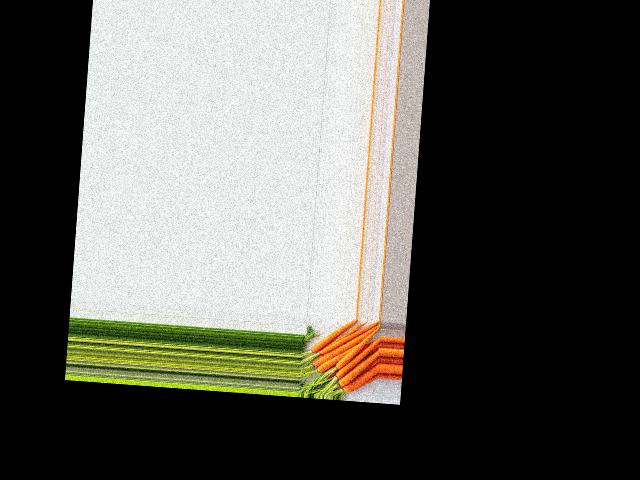carrot: (342, 366, 378, 395)
